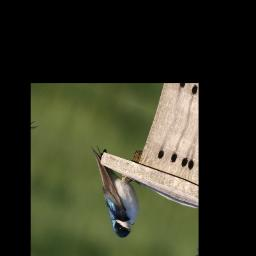Swallow: (69, 139, 155, 243)
